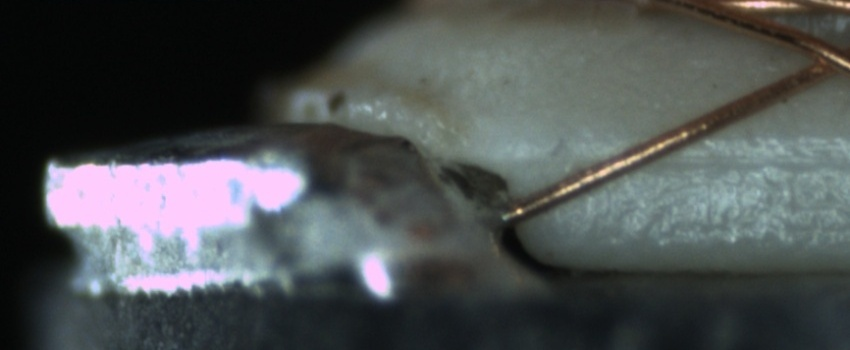CL: (791, 32, 849, 86)
DL: (559, 125, 848, 190)
